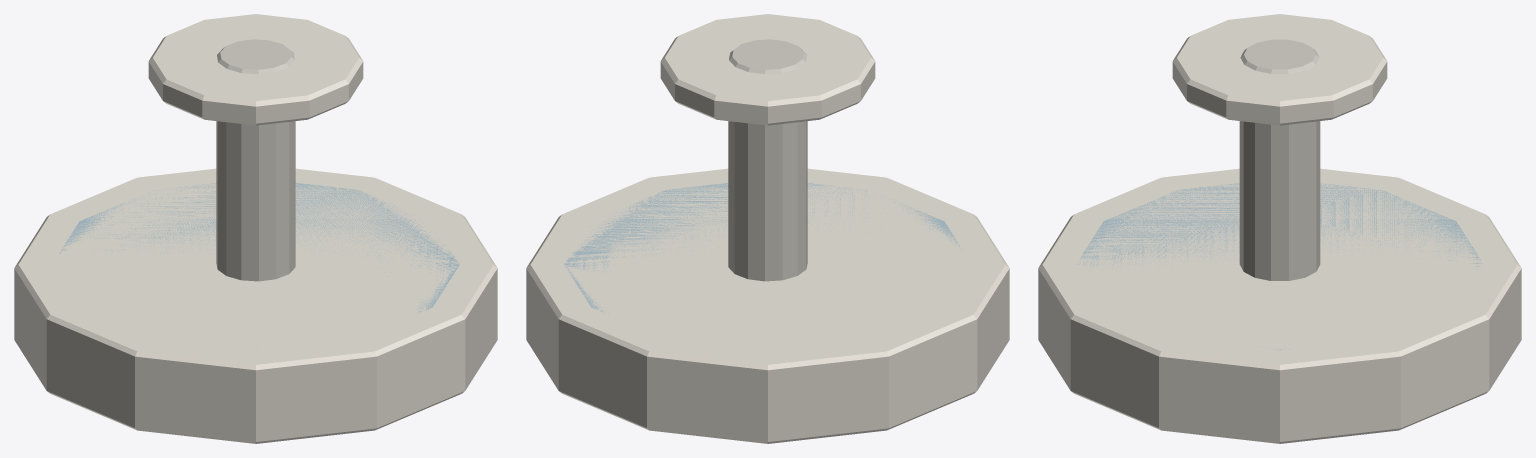
The model's file is fountain.glb.
3 renders of one model, left to right at view 1: azimuth 30°, elevation 25°; view 2: azimuth 150°, elevation 25°; view 3: azimuth 270°, elevation 25°, orthographic.
Parts seen in each view (by area): view 1: basin, bowl, pillar, water; view 2: basin, bowl, pillar, water; view 3: basin, bowl, pillar, water.
Boxes of the visible parts, <box> form: basin: <box>14,168,497,443</box>; bowl: <box>148,14,363,125</box>; pillar: <box>216,39,295,281</box>; water: <box>59,183,459,313</box>; basin: <box>526,168,1009,443</box>; bowl: <box>660,14,875,125</box>; pillar: <box>728,39,807,281</box>; water: <box>564,183,961,314</box>; basin: <box>1038,168,1521,443</box>; bowl: <box>1172,14,1387,125</box>; pillar: <box>1239,39,1320,280</box>; water: <box>1076,183,1482,350</box>.
Size of the model in its own units: 1.44 by 0.95 by 1.44.
